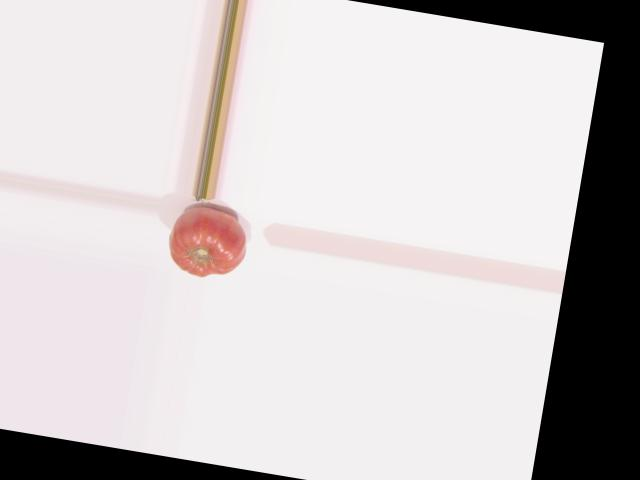tomato: (164, 203, 251, 282)
